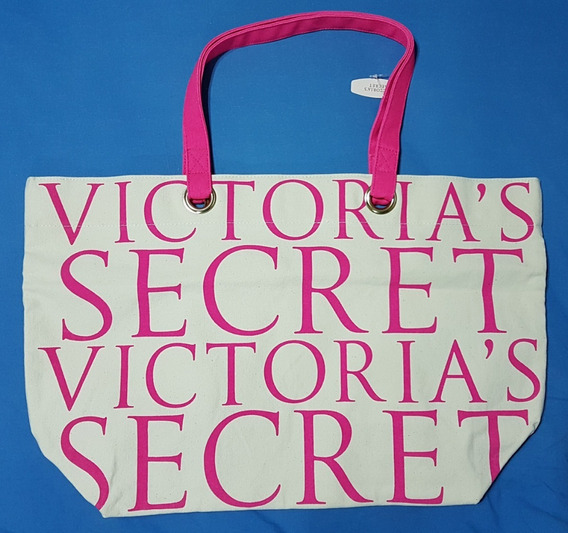cartera: (21, 11, 549, 520)
